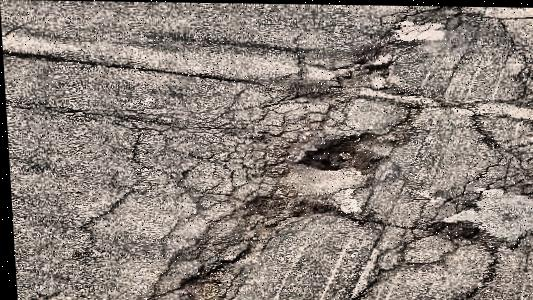pothole: (290, 128, 372, 175), (240, 190, 331, 219), (169, 265, 228, 300), (350, 42, 398, 78), (425, 218, 482, 244)
